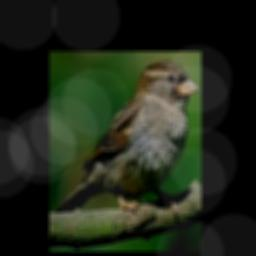Sparrow: (52, 59, 200, 217)
